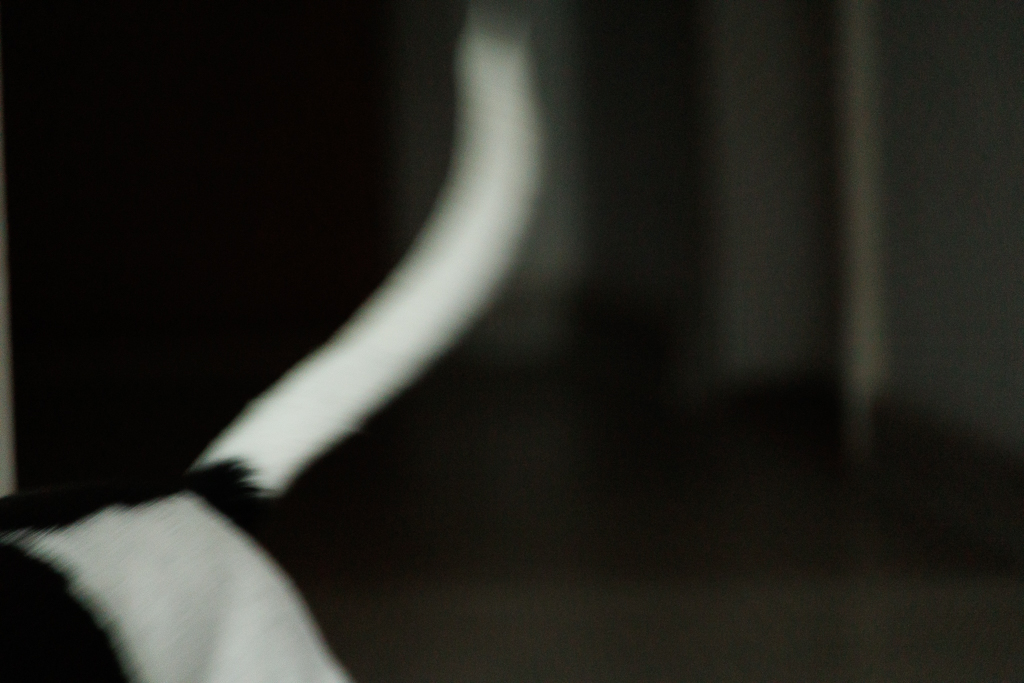Dog: (0, 0, 569, 683)
